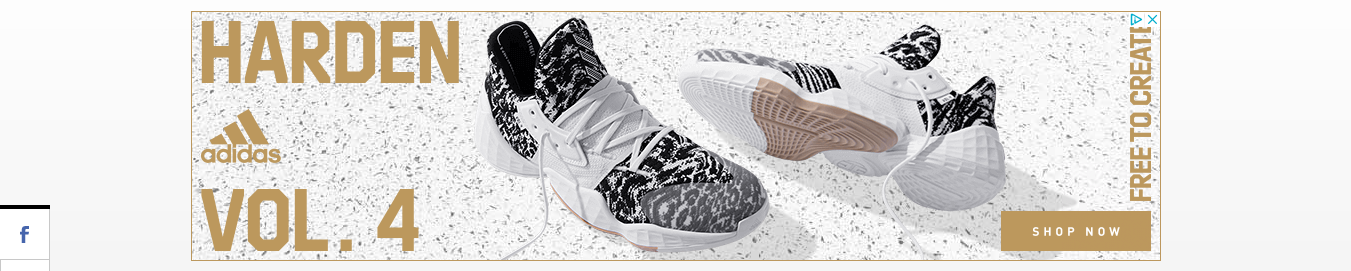fake_button: (995, 201, 1156, 251)
